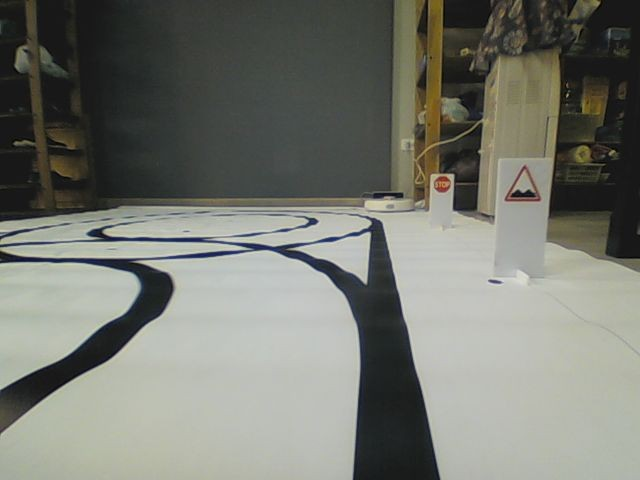Nerov: (503, 163, 541, 202)
Stop: (433, 176, 452, 193)
